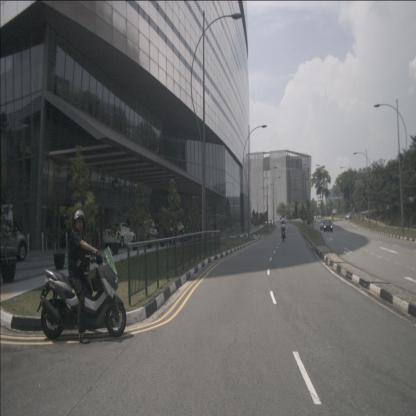human-pedestrian-adult: (168, 215, 176, 246)
vehicle-car: (0, 218, 28, 262), (103, 222, 136, 248), (133, 218, 158, 243), (324, 219, 332, 232), (320, 219, 327, 231), (346, 212, 355, 221), (280, 217, 286, 224)
vehicle-motorcycle: (35, 210, 127, 345), (280, 221, 286, 242)
